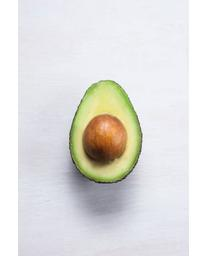avocado: (68, 80, 144, 186)
